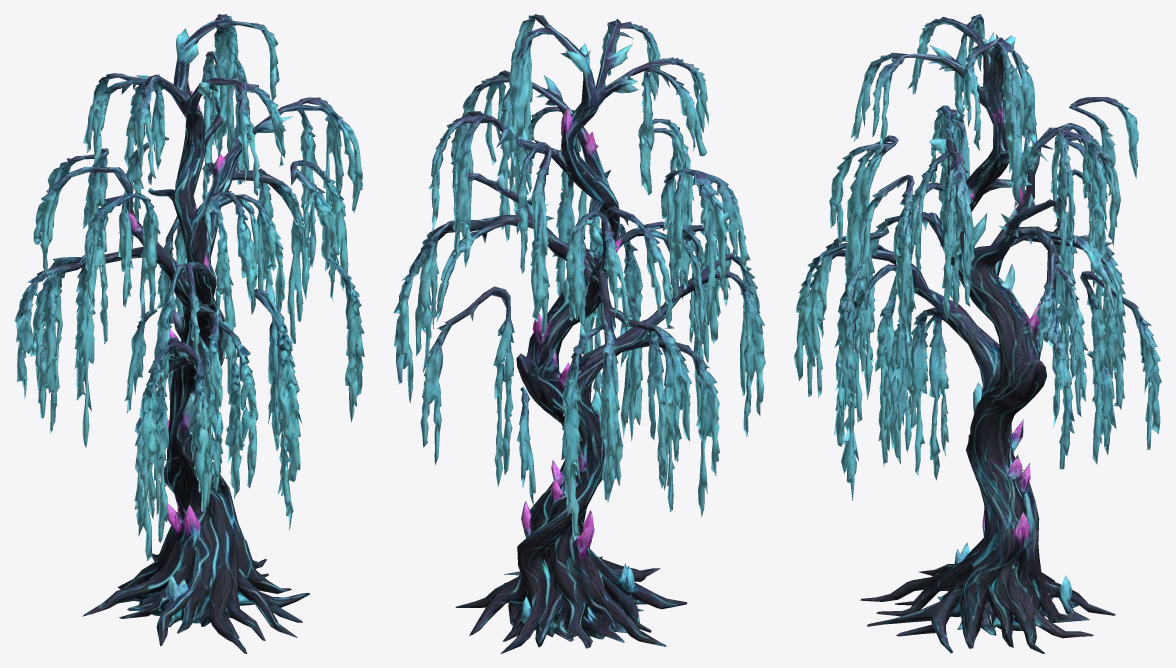
The model's file is crystal-tree2.glb.
The picture shows the model from 3 angles, left to right: view 1: azimuth 30°, elevation 25°; view 2: azimuth 150°, elevation 25°; view 3: azimuth 270°, elevation 25°; orthographic projection.
Visible parts, largest first — view 1: Mesh_0; view 2: Mesh_0; view 3: Mesh_0.
Part boxes in pixels (x1,y1,x2,y2): Mesh_0: [14, 14, 364, 653]; Mesh_0: [393, 14, 765, 653]; Mesh_0: [794, 14, 1161, 653].
Bounding box in the file's own units: 1.02 × 1.91 × 1.1.
1 material, 1 textured.
